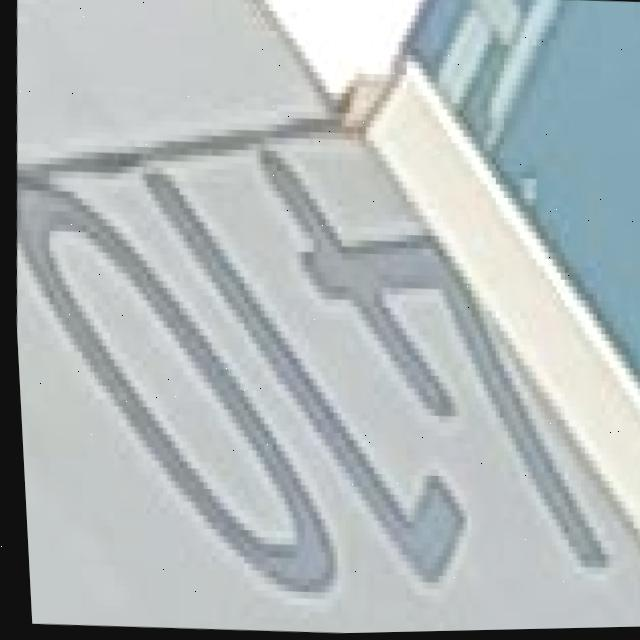character: (236, 137, 635, 595), (119, 154, 496, 605), (9, 163, 367, 613)
